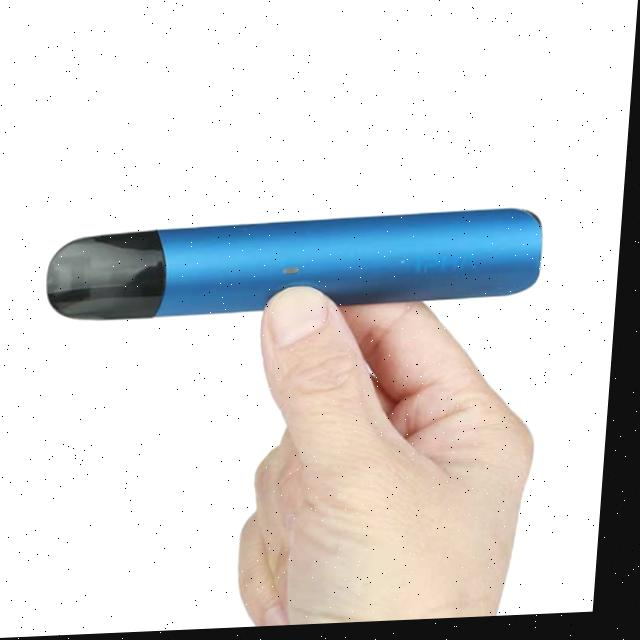vape: (48, 212, 550, 324)
